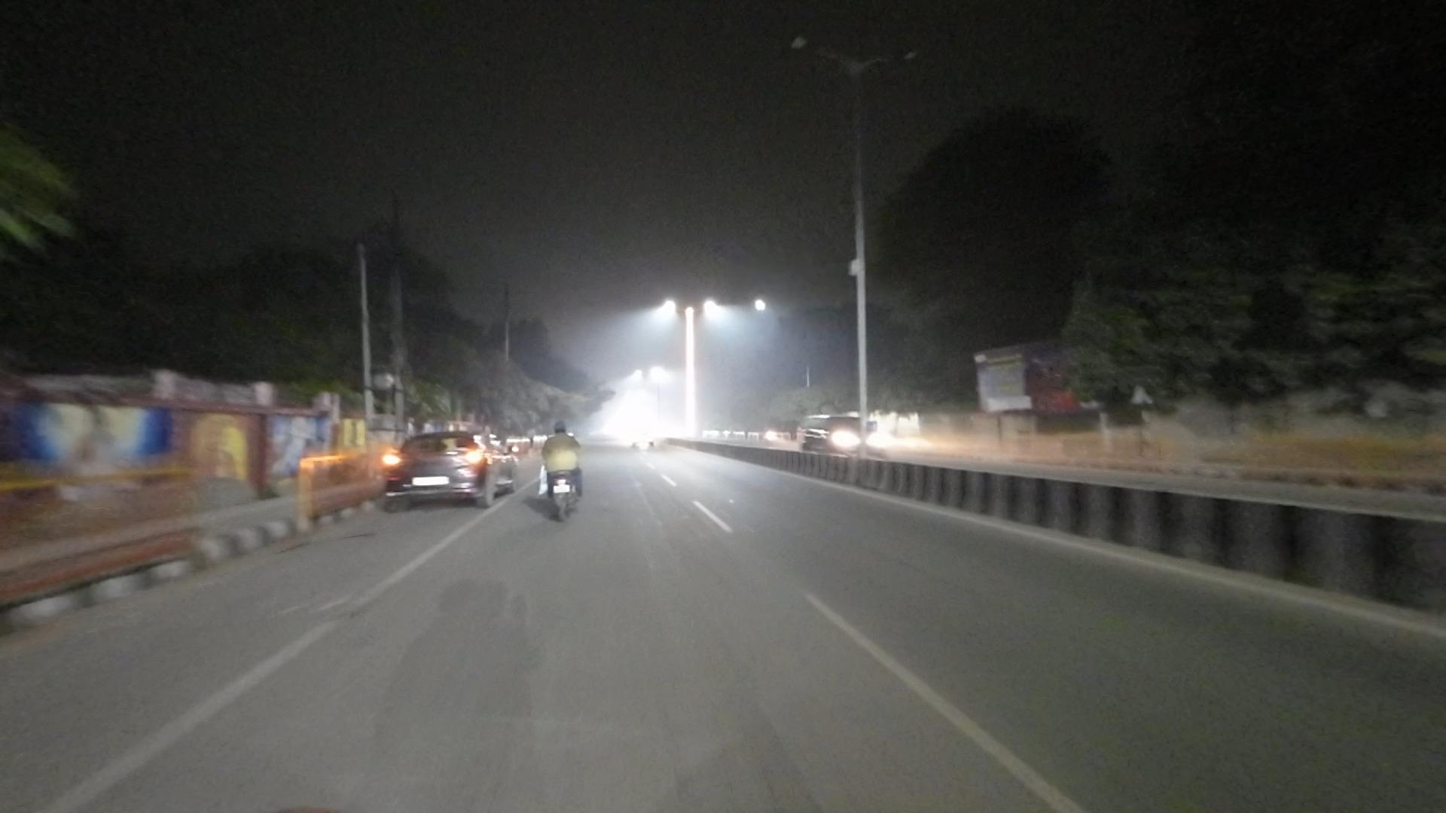streetlight: (789, 33, 842, 72), (867, 48, 921, 68)
